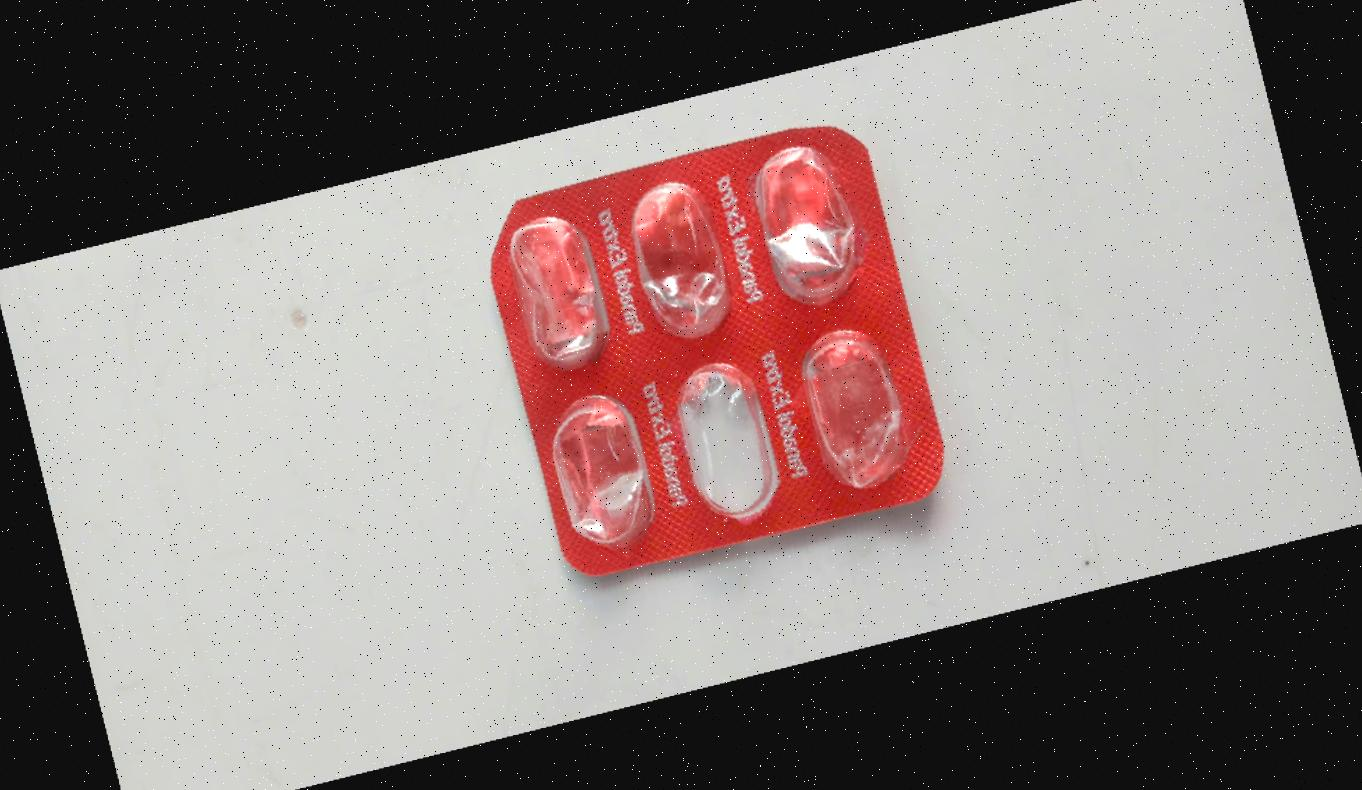Empty: (660, 350, 801, 530), (614, 172, 755, 352), (736, 130, 877, 310), (532, 381, 672, 561), (485, 198, 625, 378), (782, 320, 922, 500)
